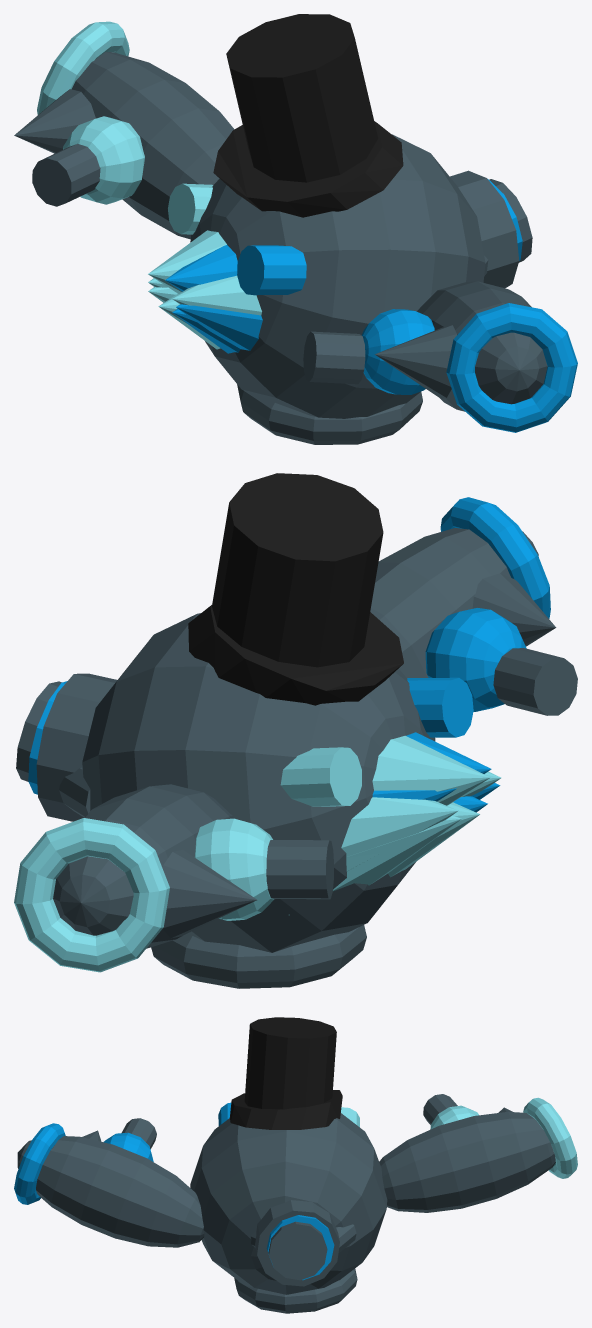
3 views of the same model, one above another, from view 1: azimuth 30°, elevation 25°; view 2: azimuth 150°, elevation 25°; view 3: azimuth 270°, elevation 25° (orthographic). The views are drawn at different scales.
Visible parts, largest first — view 1: mesh_1139833144, mesh_21008526, mesh_1465472660, mesh_1814082933, mesh_1634659698, mesh_820660040, mesh_165822670, mesh_94272874, mesh_312991119, mesh_2050942681, mesh_492582239, mesh_626415734 (+11 smaller); view 2: mesh_1139833144, mesh_21008526, mesh_492582239, mesh_1465472660, mesh_820660040, mesh_1634659698, mesh_165822670, mesh_2050942681, mesh_312991119, mesh_94272874, mesh_1464230391, mesh_1814082933 (+14 smaller); view 3: mesh_1139833144, mesh_820660040, mesh_1465472660, mesh_21008526, mesh_855457879, mesh_1634659698, mesh_312991119, mesh_165822670, mesh_492582239, mesh_1814082933, mesh_1665328500, mesh_2050942681 (+3 smaller).
Part boxes in pixels (x1,y1,x2,y2): mesh_1139833144: (190, 134, 485, 418); mesh_21008526: (226, 14, 378, 182); mesh_1465472660: (71, 52, 234, 239); mesh_1814082933: (446, 303, 577, 432); mesh_1634659698: (213, 121, 403, 217); mesh_820660040: (417, 281, 547, 411); mesh_165822670: (237, 384, 422, 444); mesh_94272874: (63, 116, 144, 204); mesh_312991119: (450, 170, 519, 288); mesh_2050942681: (361, 309, 434, 394); mesh_492582239: (37, 21, 129, 114); mesh_626415734: (237, 245, 306, 295); mesh_1139833144: (82, 613, 435, 952); mesh_21008526: (212, 473, 383, 667); mesh_492582239: (14, 818, 169, 972); mesh_1465472660: (53, 784, 233, 948); mesh_820660040: (370, 528, 538, 678); mesh_1634659698: (188, 605, 403, 705); mesh_165822670: (151, 925, 366, 988); mesh_2050942681: (425, 608, 526, 711); mesh_312991119: (36, 673, 117, 821); mesh_94272874: (194, 818, 274, 920); mesh_1464230391: (162, 850, 256, 938); mesh_1814082933: (440, 497, 550, 618); mesh_1139833144: (190, 1113, 387, 1294); mesh_820660040: (17, 1136, 204, 1247); mesh_1465472660: (379, 1111, 555, 1212); mesh_21008526: (244, 1017, 336, 1109); mesh_855457879: (268, 1221, 327, 1280); mesh_1634659698: (229, 1090, 342, 1129); mesh_312991119: (255, 1200, 339, 1286); mesh_165822670: (234, 1268, 357, 1313); mesh_492582239: (523, 1097, 577, 1178); mesh_1814082933: (14, 1123, 65, 1204); mesh_1665328500: (266, 1215, 334, 1280); mesh_2050942681: (103, 1132, 153, 1161).
Bounding box in the file's own units: 34.32 × 35.01 × 67.15.
